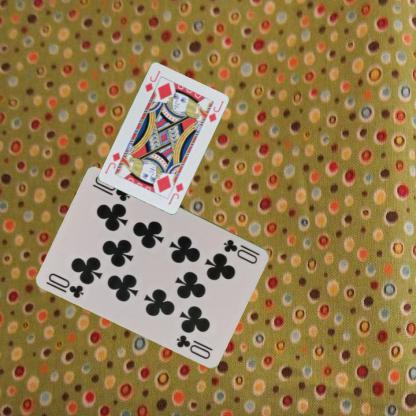10c: (221, 236, 262, 266), (44, 270, 86, 299)
Jd: (165, 180, 185, 206), (142, 68, 161, 93)
